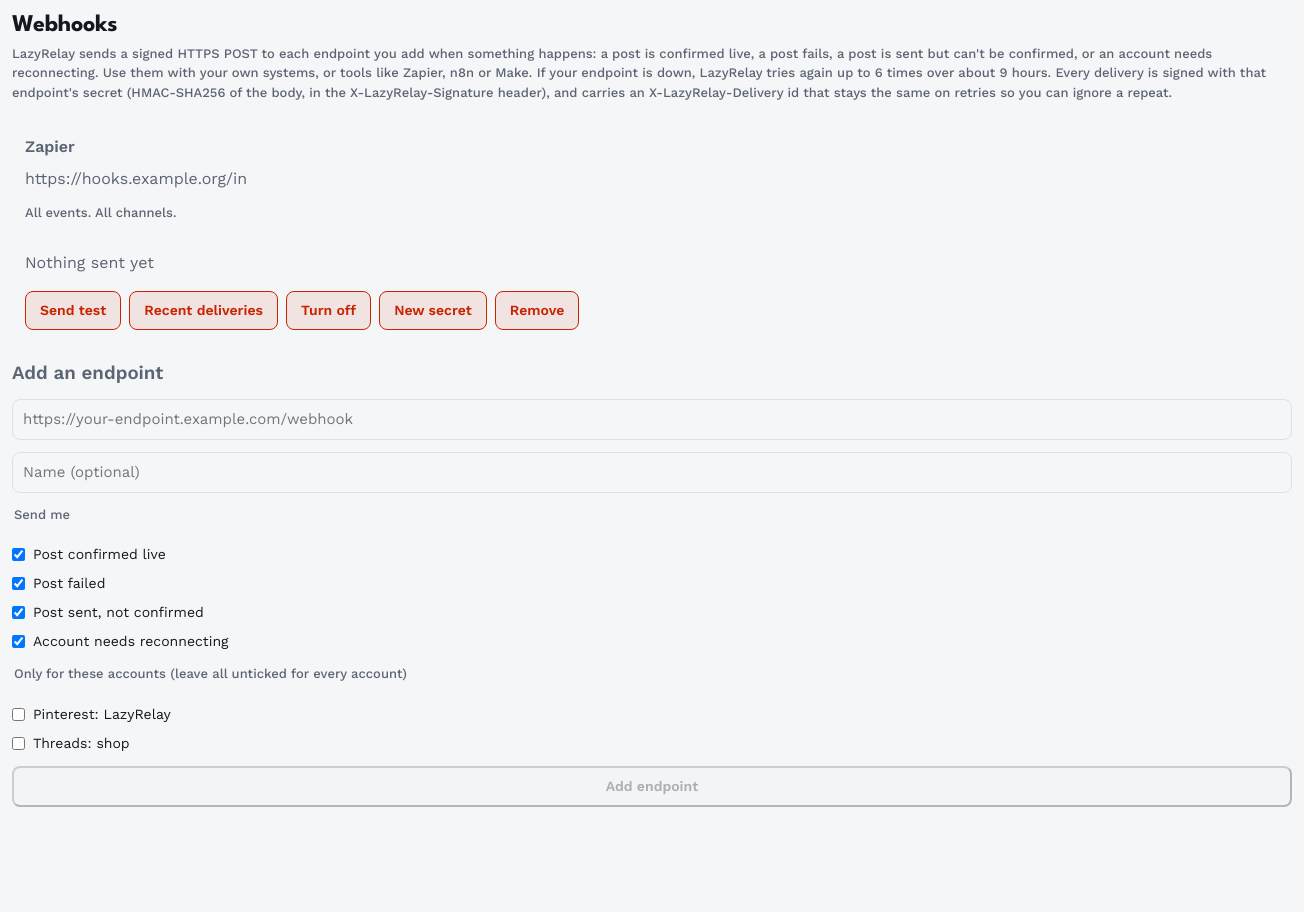
Test: WebhooksSection › the Send test button reports success and failure in plain words
The image size is (1304, 912).
Click the button "Send test" at point(73, 310), box top-left (25, 291), bottom-right (121, 330)
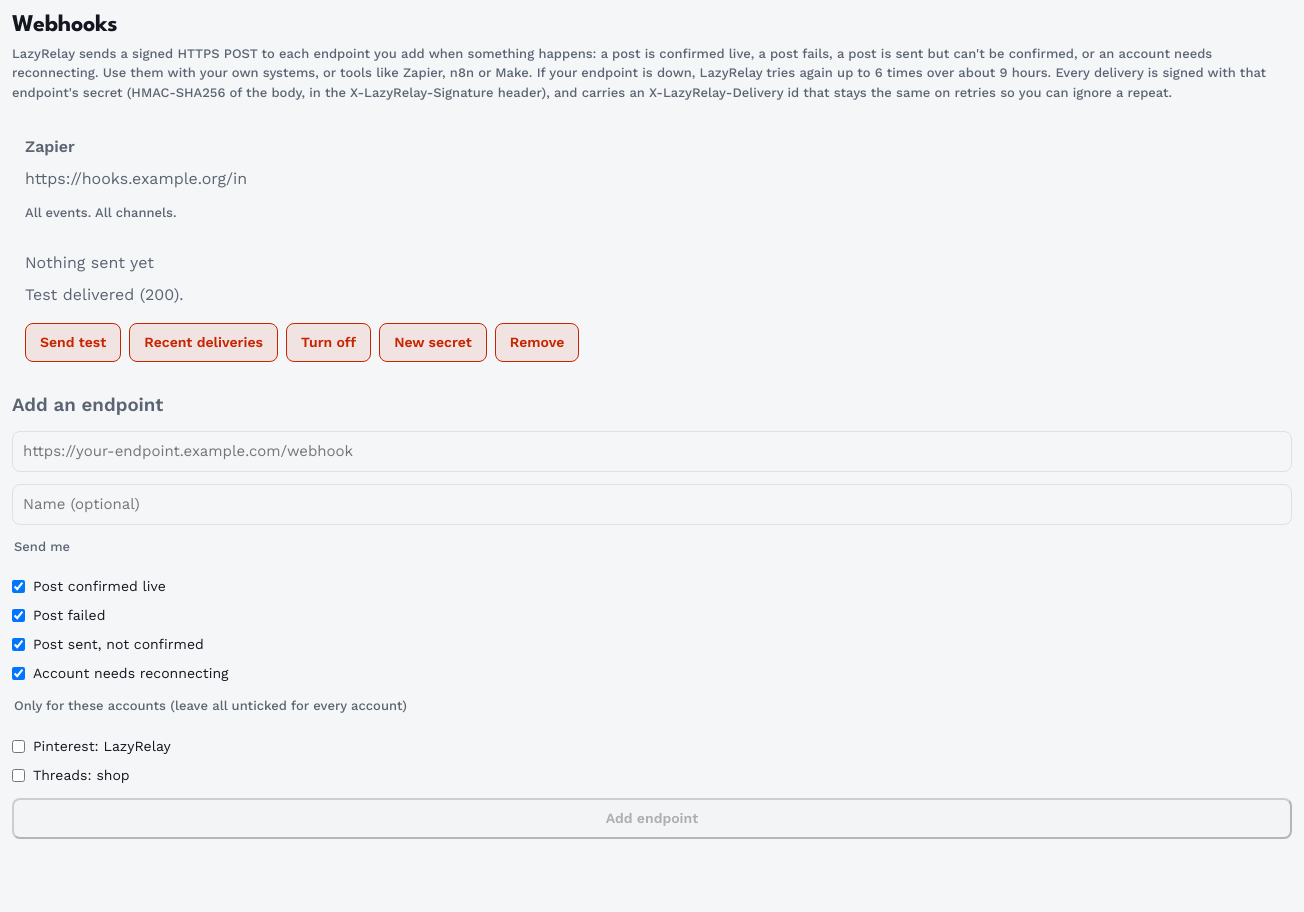
expect the text "Test delivered (200)." is shown: met, box top-left (25, 285), bottom-right (184, 304)
Click the button "Send test" at point(73, 342), box top-left (25, 323), bottom-right (121, 362)
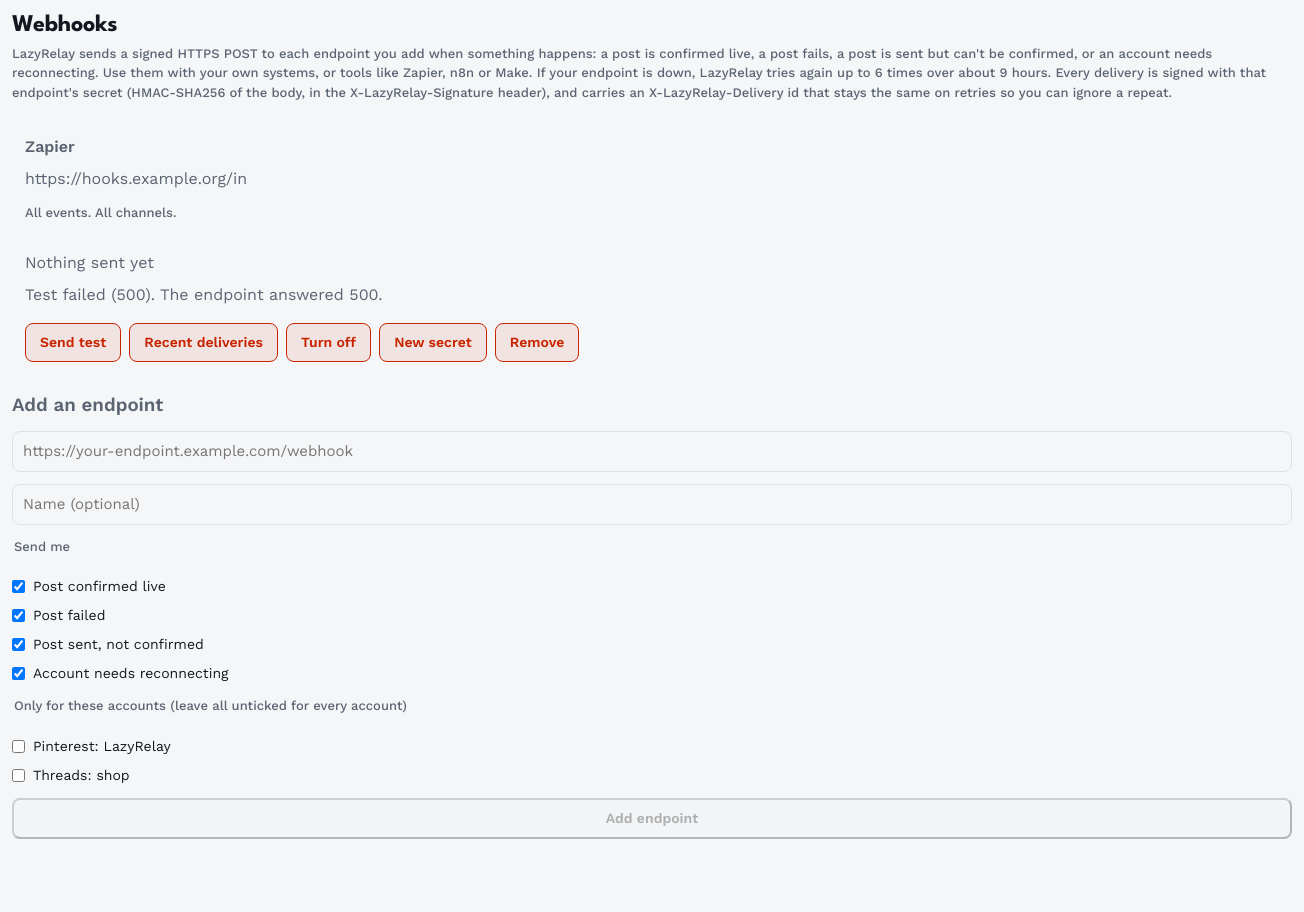
expect the text "Test failed (500). The endpoint answered 500." is shown: met, box top-left (25, 285), bottom-right (382, 304)
